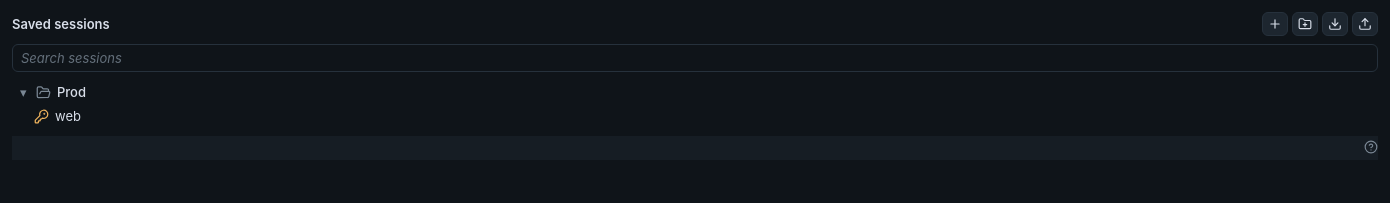
Test: SessionsPanel › exports every session to the file picked, without passwords, and says where
Click the button named "Export sessions": click(1365, 24) [1352,12,1378,36]
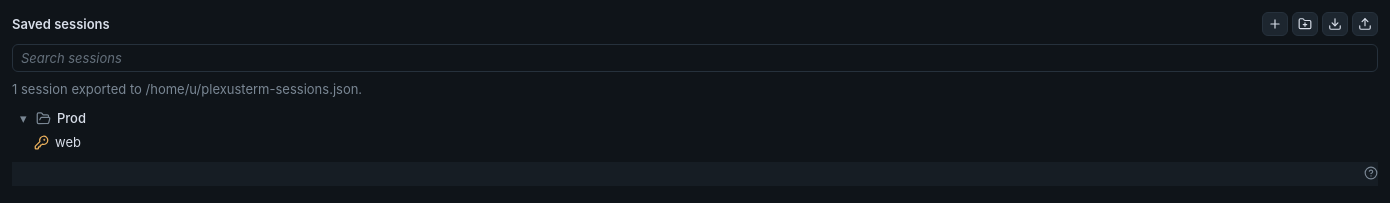
Expected: the text "1 session exported to /home/u/plexusterm-sessions.json." is shown, [12,81,362,97]
